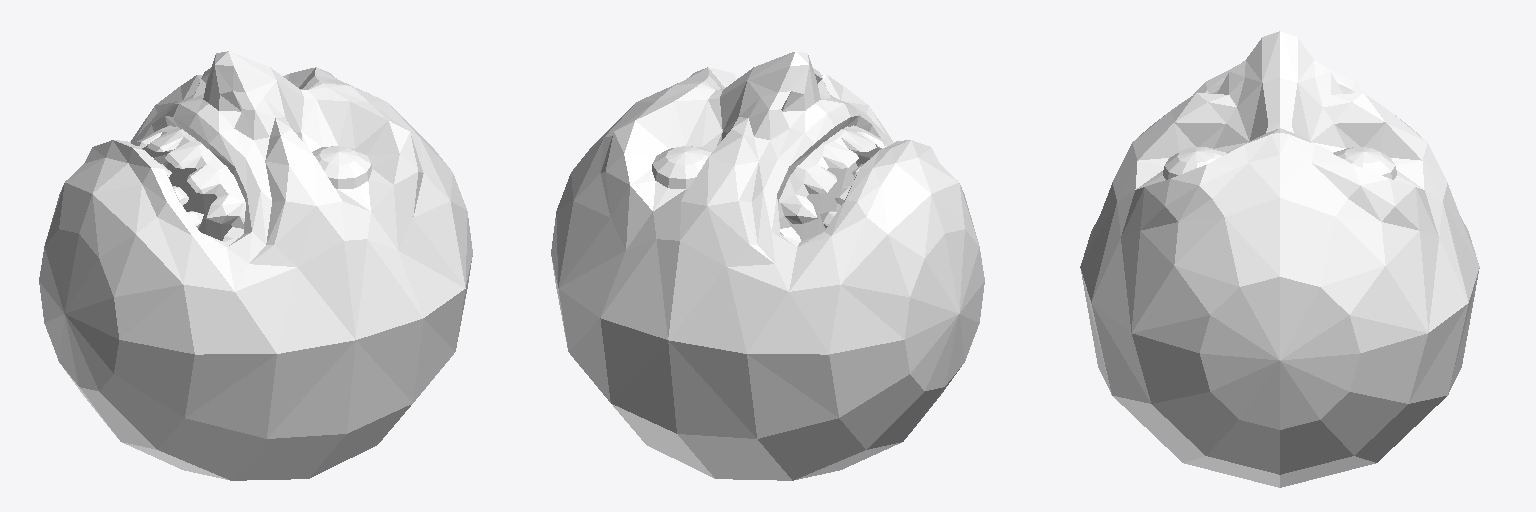
File: moon.obj
3 views of the same model, side by side, from view 1: azimuth 30°, elevation 25°; view 2: azimuth 150°, elevation 25°; view 3: azimuth 270°, elevation 25° (orthographic).
Parts seen in each view (by area): view 1: mesh_moon; view 2: mesh_moon; view 3: mesh_moon.
Boxes of the visible parts, x1=… form: mesh_moon: x1=39, y1=51, x2=472, y2=480; mesh_moon: x1=551, y1=51, x2=984, y2=480; mesh_moon: x1=1080, y1=31, x2=1479, y2=487.
Bounding box in the file's own units: 4112 × 4341 × 3716.